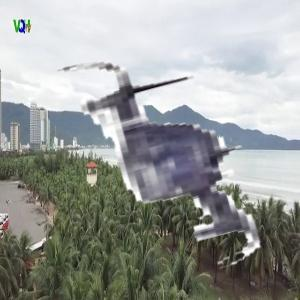drone: (44, 35, 300, 291)
